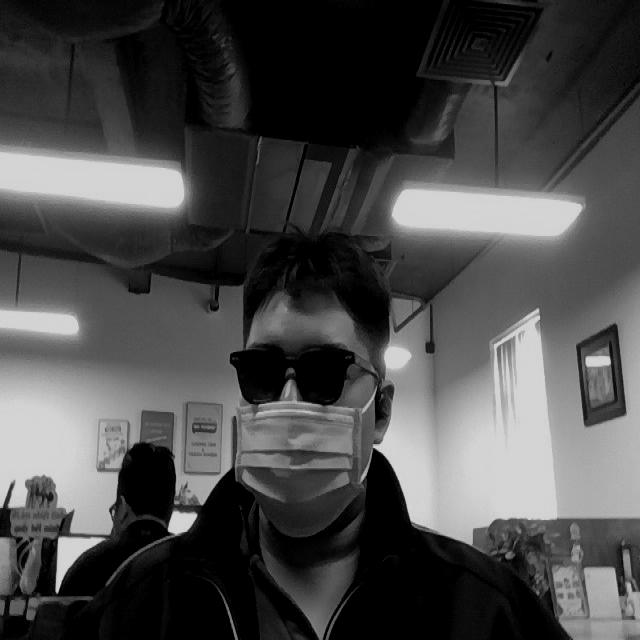fake: (230, 400, 369, 534), (231, 336, 380, 404)
